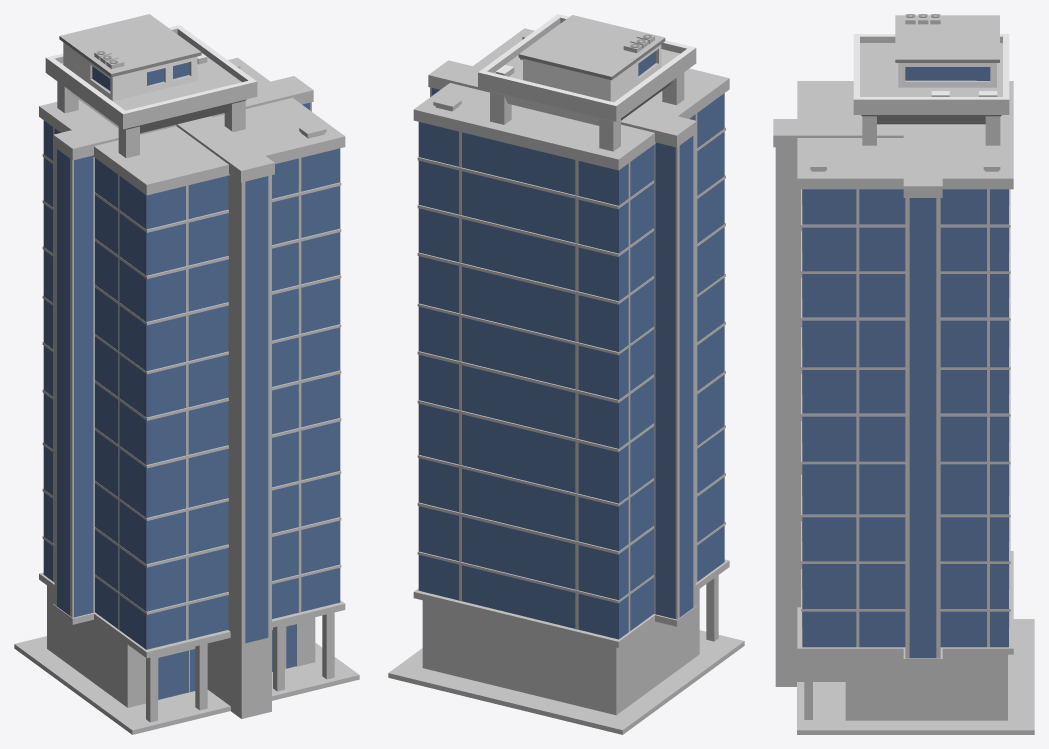
The model's file is building_2_2_2_3.glb.
The picture shows the model from 3 angles, left to right: view 1: azimuth 30°, elevation 25°; view 2: azimuth 150°, elevation 25°; view 3: azimuth 270°, elevation 25°; orthographic projection. The views are drawn at different scales.
Parts seen in each view (by area): view 1: building_1_2_2_12; view 2: building_1_2_2_12; view 3: building_1_2_2_12.
Part boxes in pixels (box(x1,y1,x2,y2)): building_1_2_2_12: box(14, 14, 359, 734); building_1_2_2_12: box(388, 14, 744, 734); building_1_2_2_12: box(773, 14, 1034, 734).
Bounding box in the file's own units: 30.63 × 75.67 × 28.61.
Materials: 1 (1 with a texture image).
